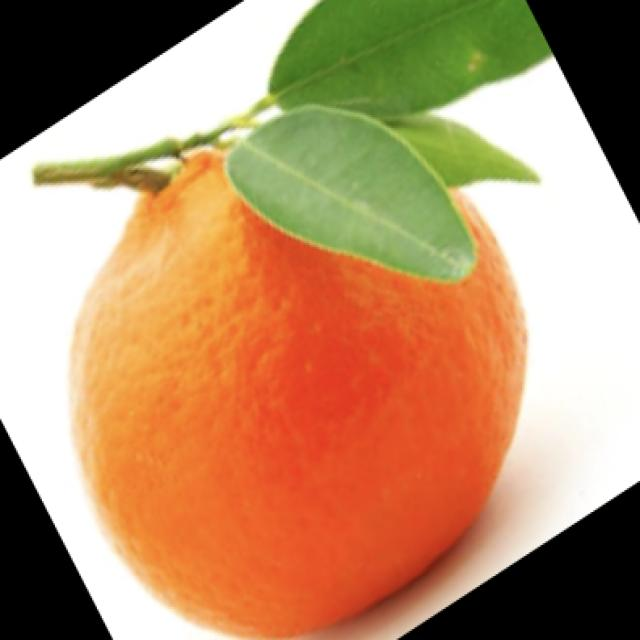matang: (71, 147, 532, 638)
